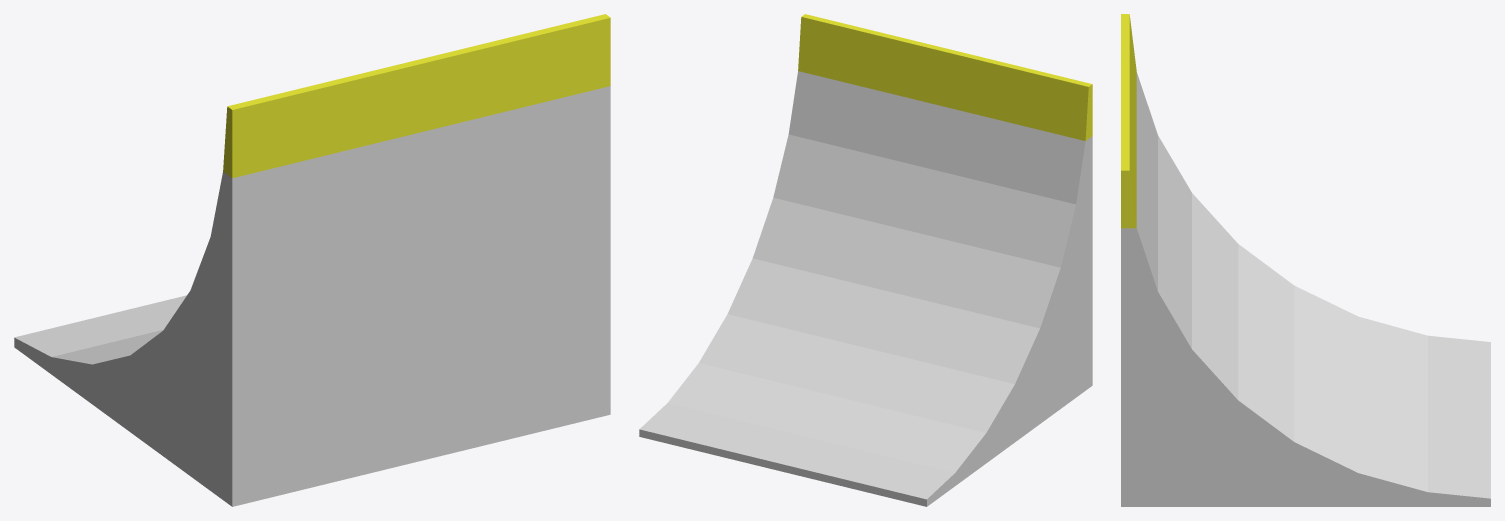
Rendered from Quarter.fbx.
The picture shows the model from 3 angles, left to right: view 1: azimuth 30°, elevation 25°; view 2: azimuth 150°, elevation 25°; view 3: azimuth 270°, elevation 25°; orthographic projection. The views are drawn at different scales.
Parts seen in each view (by area): view 1: Quarter_20x20x20; view 2: Quarter_20x20x20; view 3: Quarter_20x20x20.
Boxes of the visible parts, x1,y1,x2,y2 form: Quarter_20x20x20: (14, 14, 610, 506); Quarter_20x20x20: (639, 14, 1092, 506); Quarter_20x20x20: (1121, 14, 1490, 506).
Bounding box in the file's own units: 20 × 19.97 × 20.04.
